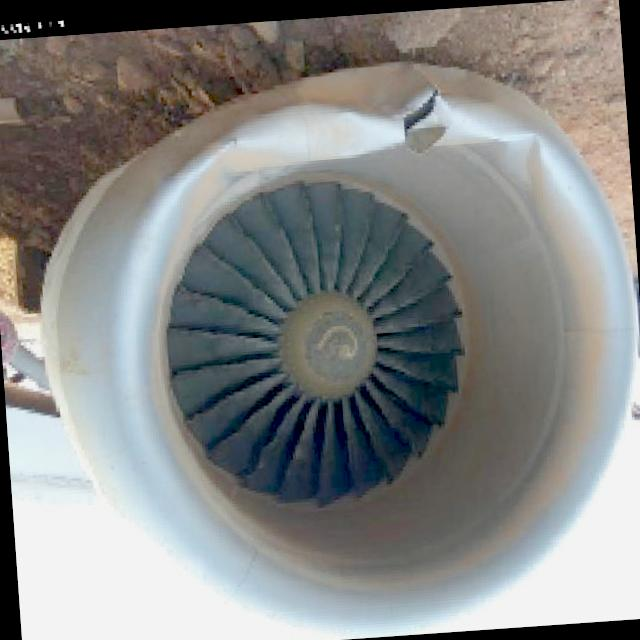crack: (395, 84, 443, 137)
dent: (234, 96, 404, 167), (488, 128, 552, 194)
